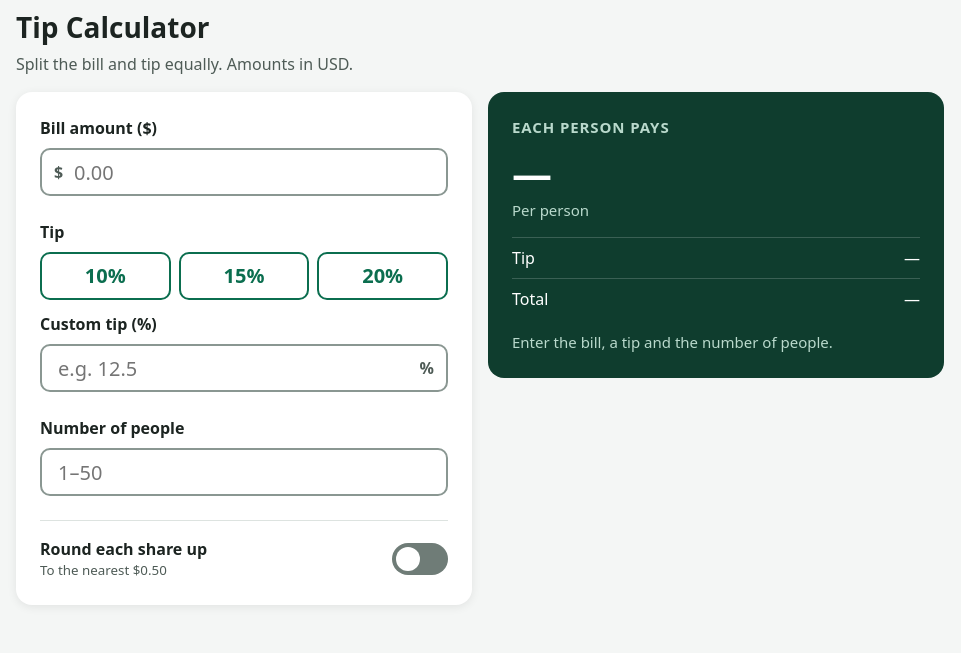
Test case: S3: Split the bill and see live results › 2.5 people shows the valid-range message
The width and height of the screenshot is (961, 653).
Step 1. Type "2.5" into the field labelled "Number of people" → (244, 472), box [40,448,448,496]
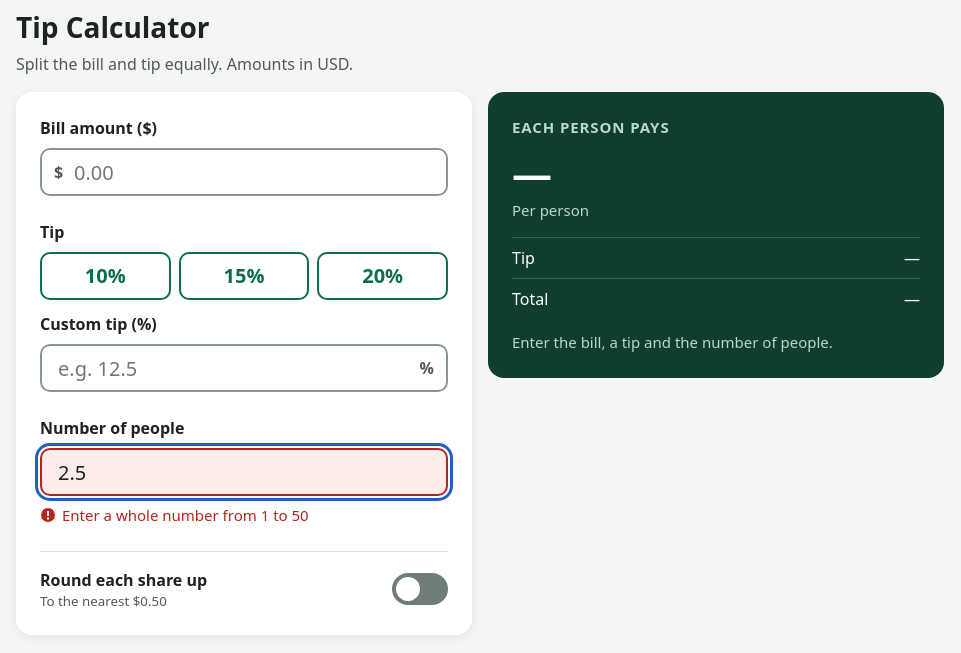
Now the element showing "Enter a whole number from 1 to 50" is shown, box [40,505,309,525]
